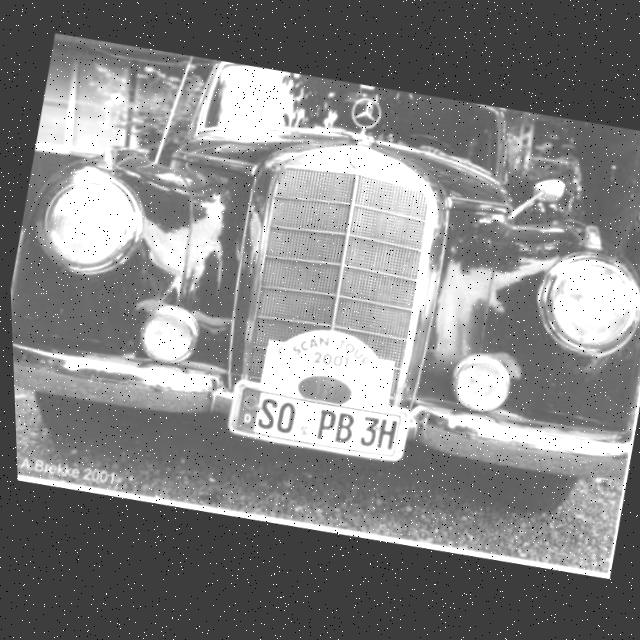license-plates: (228, 387, 408, 462)
